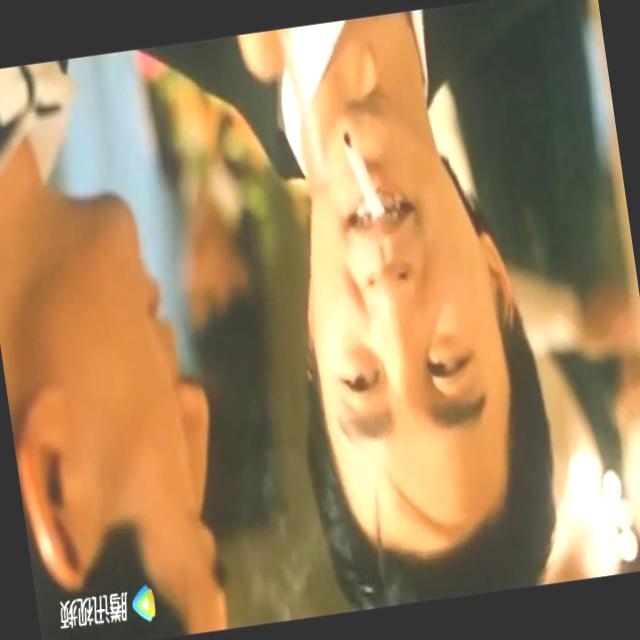cigarette: (333, 121, 388, 232)
